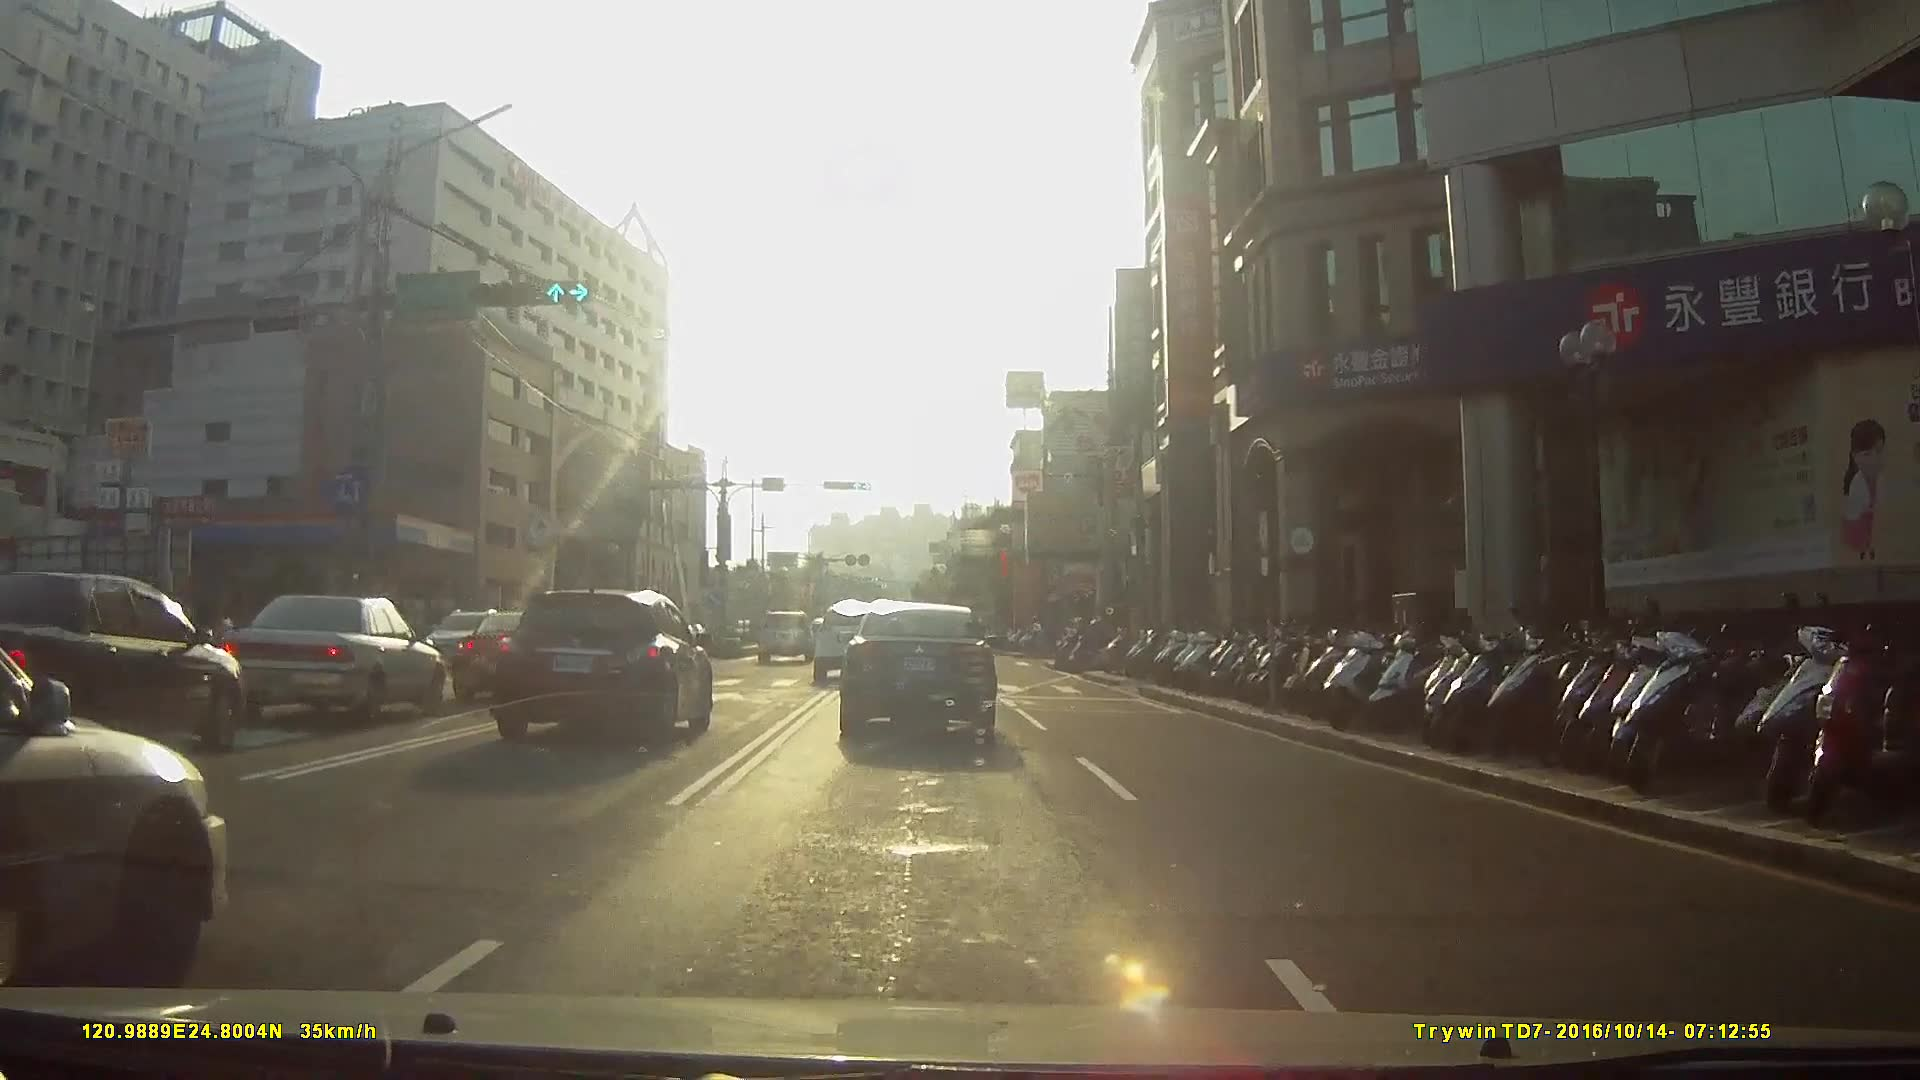rider: (1068, 620, 1124, 674)
vehicle: (1, 622, 233, 1005), (1, 570, 277, 759), (477, 583, 724, 752), (190, 592, 460, 732), (835, 601, 1007, 751), (421, 613, 565, 708), (411, 605, 549, 675), (808, 602, 887, 686), (755, 608, 814, 663)
